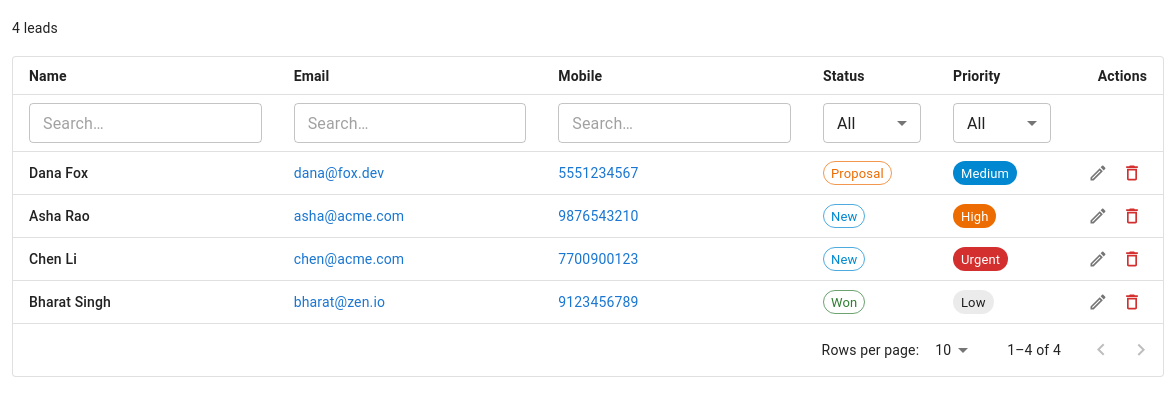
Test: TableView (desktop table) › searches the mobile column
In the 3rd search field with placeholder "Search…": (675, 123) [558,103,791,143], type "555 123"
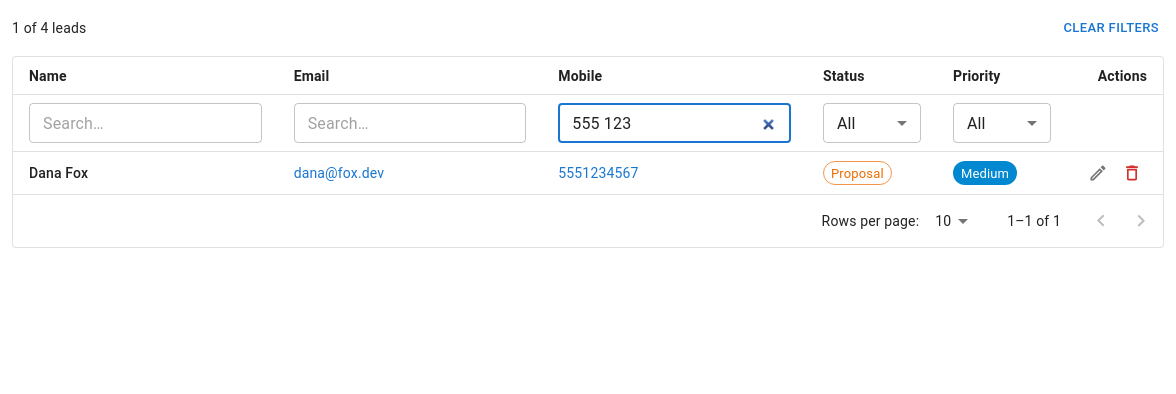
Expected: the text "1 of 4 leads" is shown, [12,18,86,38]
